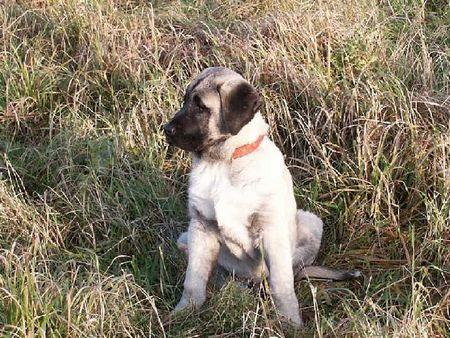kangal: (162, 66, 361, 328)
